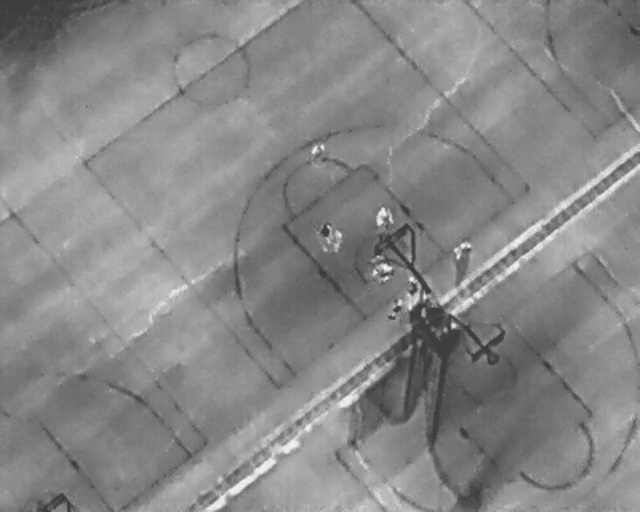Person: (450, 237, 473, 265), (375, 202, 394, 233), (311, 137, 325, 165), (372, 248, 383, 281), (323, 221, 333, 253), (392, 296, 405, 320), (409, 273, 419, 303), (335, 225, 344, 252), (383, 258, 393, 281)
